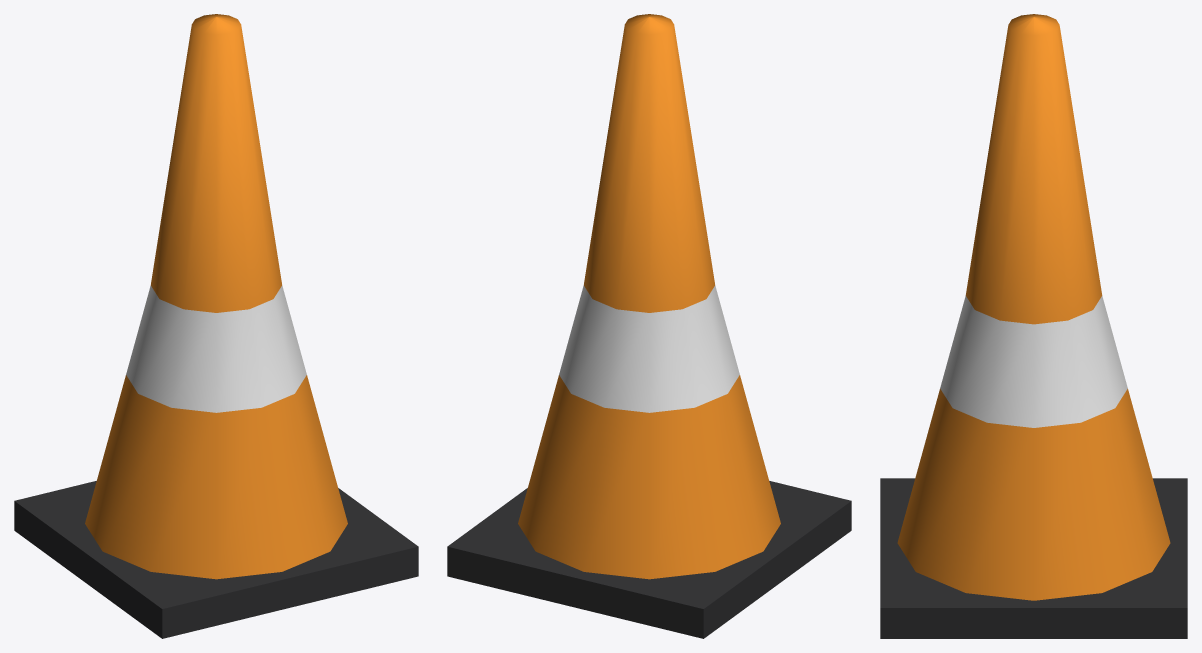
The picture shows the model from 3 angles, left to right: view 1: azimuth 30°, elevation 25°; view 2: azimuth 150°, elevation 25°; view 3: azimuth 270°, elevation 25°; orthographic projection. The views are drawn at different scales.
Visible parts, largest first — view 1: cone_body; view 2: cone_body; view 3: cone_body.
Part boxes in pixels (x1,y1,x2,y2): cone_body: [14, 14, 418, 638]; cone_body: [447, 14, 851, 638]; cone_body: [880, 14, 1187, 638].
Size of the model in its own units: 0.018 by 0.036 by 0.018.
